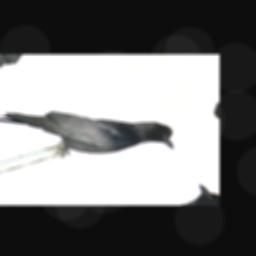Crow: (0, 75, 186, 188)
